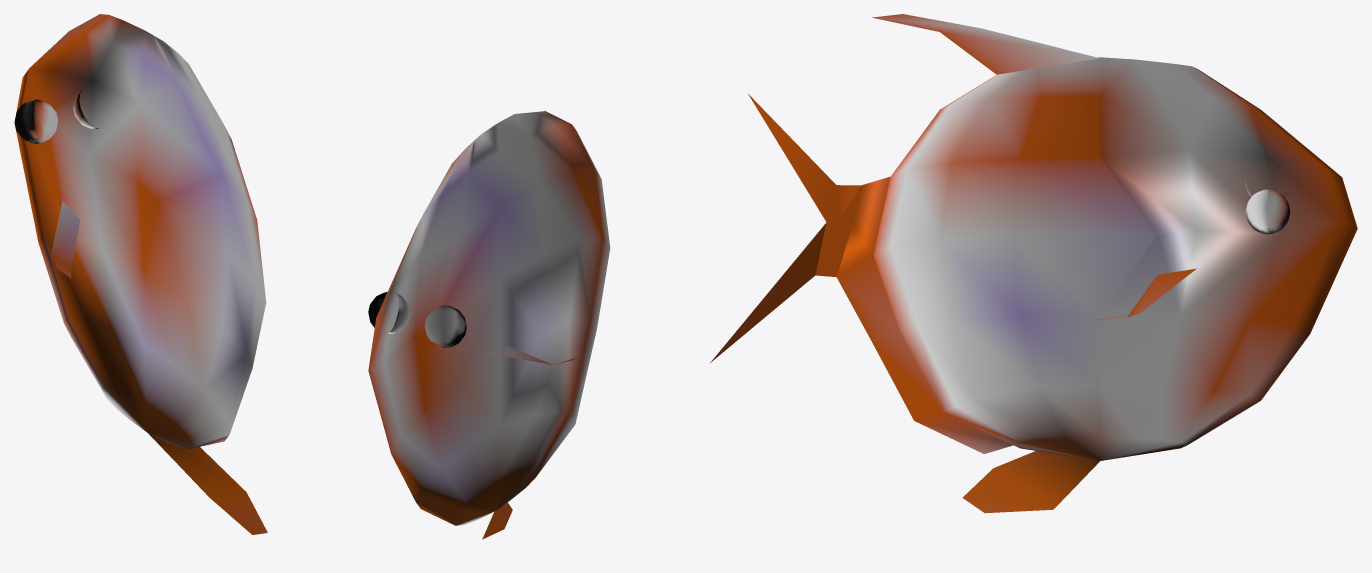
File: moonfish.glb
The picture shows the model from 3 angles, left to right: view 1: azimuth 30°, elevation 25°; view 2: azimuth 150°, elevation 25°; view 3: azimuth 270°, elevation 25°; orthographic projection. The views are drawn at different scales.
Visible parts, largest first — view 1: Moonfish; view 2: Moonfish; view 3: Moonfish.
Part boxes in pixels (box(x1,y1,x2,y2)): Moonfish: box(14, 14, 267, 534); Moonfish: box(368, 111, 610, 539); Moonfish: box(710, 14, 1357, 513).
Size of the model in its own units: 0.4483 by 1.28 by 1.44.
